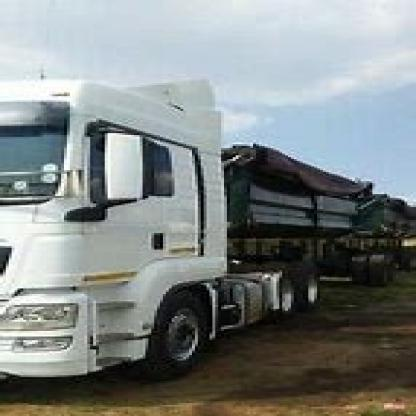dump_truck: (0, 57, 413, 381)
